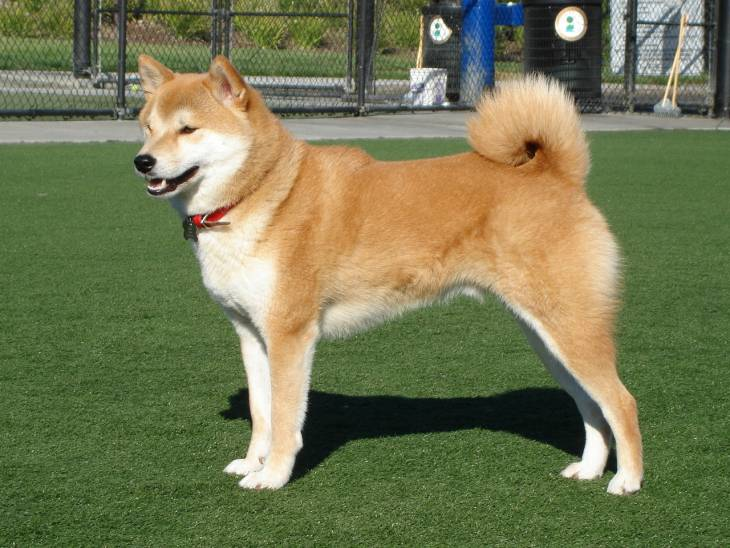tail: (465, 71, 596, 185)
